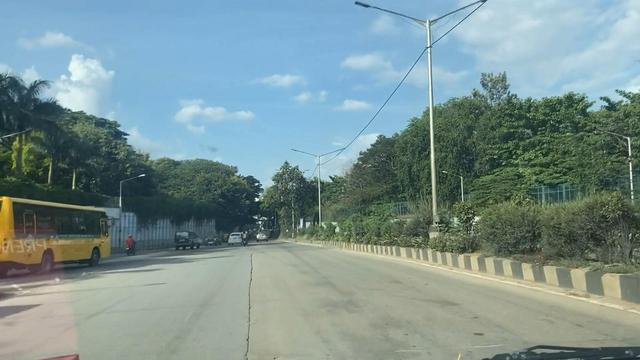RoadDamages: (239, 248, 256, 360)
